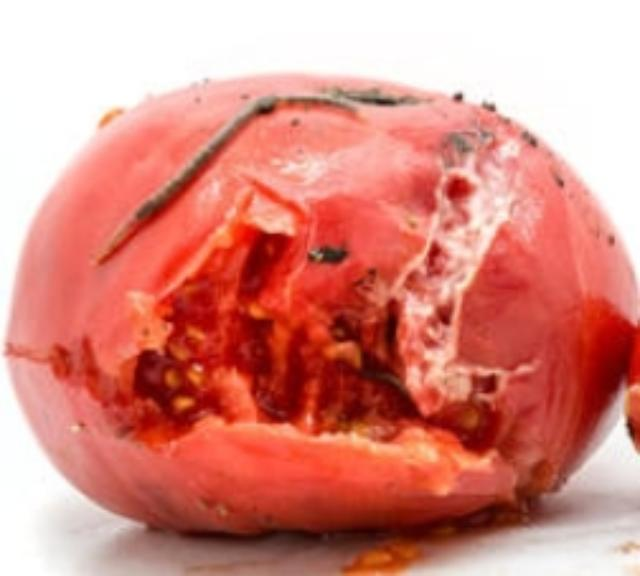defect: (0, 75, 640, 545)
